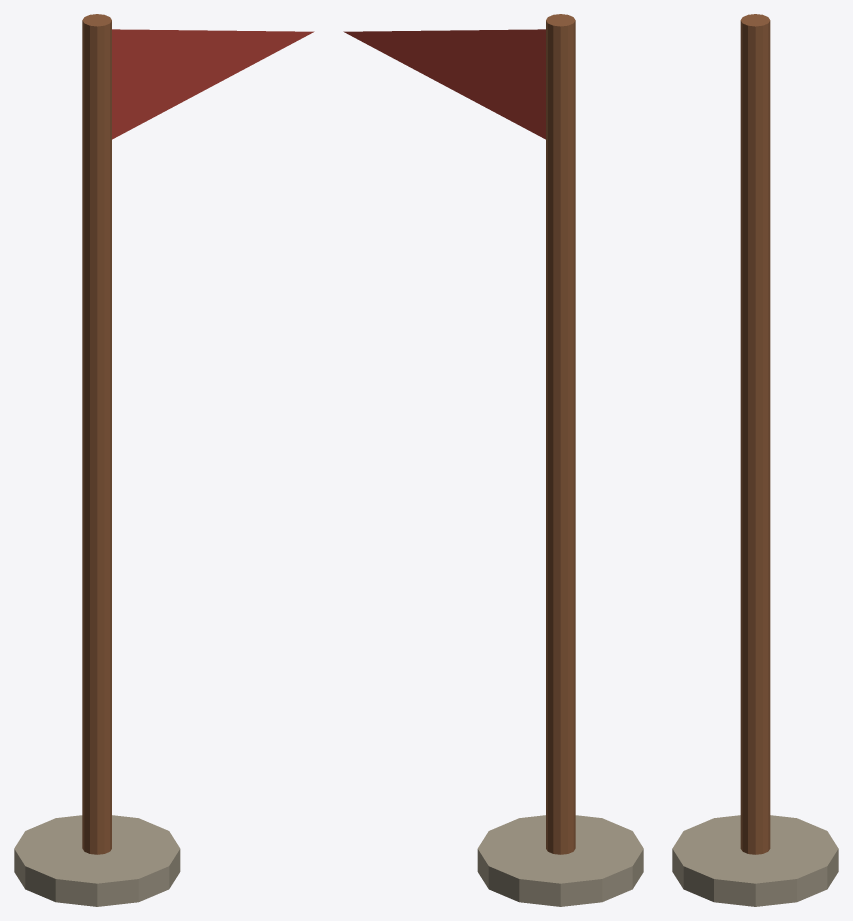
Rendered from 088_festival_flagpole.glb.
3 renders of one model, left to right at view 1: azimuth 30°, elevation 25°; view 2: azimuth 150°, elevation 25°; view 3: azimuth 270°, elevation 25°, orthographic.
Visible parts, largest first — view 1: Festival flagpole; view 2: Festival flagpole; view 3: Festival flagpole.
Part boxes in pixels (box(x1,y1,x2,y2)): Festival flagpole: box(14, 14, 314, 906); Festival flagpole: box(343, 14, 643, 906); Festival flagpole: box(672, 14, 838, 906).
Size of the model in its own units: 1.69 by 4.75 by 0.84.
